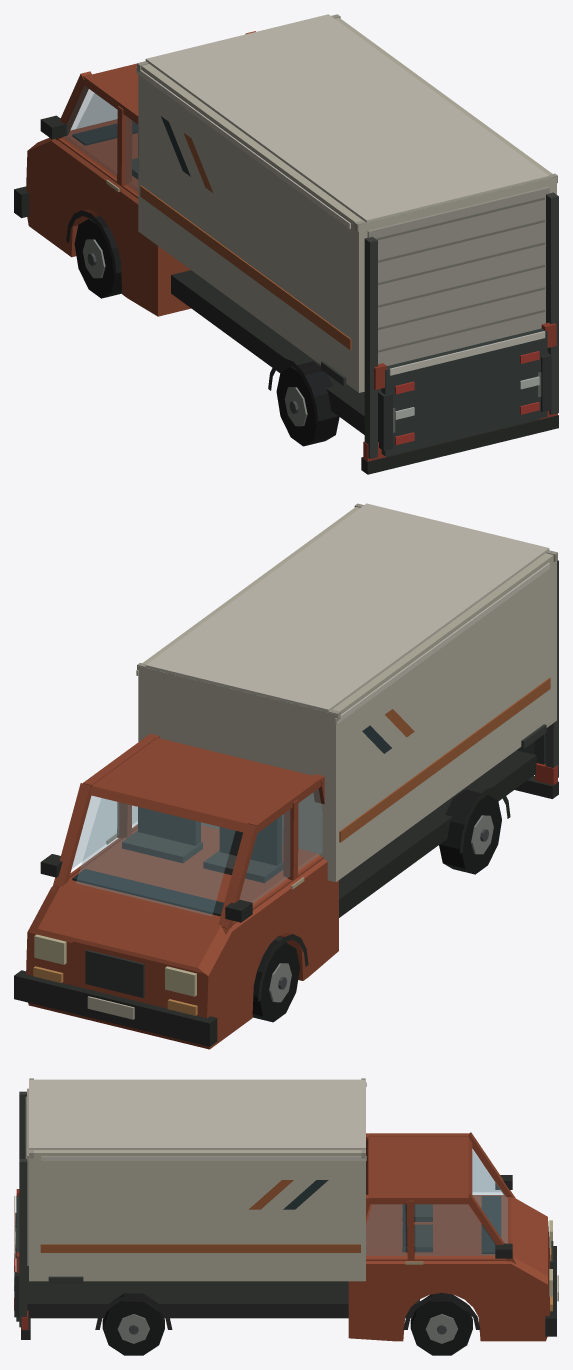
File: camion.glb
The picture shows the model from 3 angles, top to bottom: view 1: azimuth 30°, elevation 25°; view 2: azimuth 150°, elevation 25°; view 3: azimuth 270°, elevation 25°; orthographic projection. The views are drawn at different scales.
Parts seen in each view (by area): view 1: proposition_camion; view 2: proposition_camion; view 3: proposition_camion.
Boxes of the visible parts, box(x1,y1,x2,y2) form: proposition_camion: box(14, 14, 558, 474); proposition_camion: box(14, 503, 558, 1049); proposition_camion: box(14, 1078, 558, 1355).
Size of the model in its own units: 2.17 by 2.78 by 6.63.
